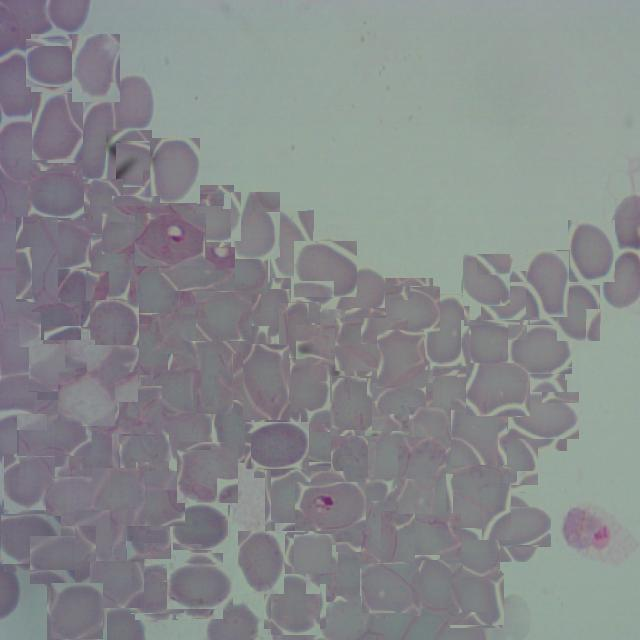leukocyte: (435, 464, 511, 540), (336, 478, 395, 552), (447, 403, 511, 468), (162, 302, 225, 366), (339, 314, 404, 376), (176, 442, 238, 504), (398, 436, 447, 514), (335, 265, 386, 339), (90, 540, 145, 608), (16, 216, 59, 302), (166, 239, 227, 299), (296, 239, 356, 299), (396, 506, 456, 566), (243, 344, 290, 420), (290, 414, 350, 473), (32, 337, 92, 396), (466, 363, 530, 418), (130, 259, 181, 328), (514, 386, 572, 446), (361, 500, 416, 562), (75, 101, 116, 184), (86, 233, 136, 301), (231, 191, 281, 259), (32, 94, 83, 160), (0, 510, 58, 568), (35, 531, 93, 589), (26, 406, 84, 464), (107, 201, 165, 259), (100, 136, 158, 193), (150, 138, 200, 204), (72, 34, 120, 102), (181, 189, 238, 246), (425, 294, 470, 366), (512, 321, 568, 378), (208, 243, 264, 300), (128, 469, 184, 526), (368, 425, 418, 488), (480, 432, 536, 488), (281, 358, 330, 422), (418, 366, 474, 422), (172, 558, 228, 614), (102, 382, 158, 438), (59, 372, 115, 428), (49, 585, 106, 640), (330, 375, 381, 436), (448, 572, 504, 627), (381, 282, 436, 338), (304, 317, 359, 373), (158, 405, 213, 461), (250, 418, 306, 473), (91, 469, 146, 525), (409, 559, 463, 616), (32, 167, 87, 222), (444, 522, 499, 577), (375, 379, 430, 434), (268, 576, 322, 632), (86, 346, 140, 402), (270, 210, 314, 278), (490, 500, 544, 555), (230, 326, 270, 400), (526, 250, 570, 317), (28, 36, 82, 90), (462, 317, 516, 371), (23, 297, 77, 351), (3, 455, 57, 509), (265, 469, 312, 531), (568, 220, 615, 282), (362, 563, 420, 613), (238, 531, 284, 594), (196, 336, 233, 414), (374, 332, 427, 386), (409, 407, 453, 472), (51, 268, 97, 330), (212, 399, 256, 463), (198, 290, 251, 343), (69, 421, 120, 476), (175, 500, 228, 552), (78, 179, 123, 240), (90, 300, 139, 356), (286, 533, 338, 585), (75, 509, 126, 562), (249, 276, 292, 338), (326, 545, 372, 602), (279, 302, 321, 364), (331, 434, 374, 494), (556, 284, 600, 341), (40, 221, 90, 271), (462, 255, 512, 305), (50, 472, 100, 522), (486, 277, 536, 326), (122, 426, 169, 478), (132, 569, 180, 617), (125, 510, 171, 559), (154, 368, 200, 414), (134, 324, 174, 376), (112, 76, 152, 124)
red blood cell: (140, 208, 202, 270), (300, 476, 360, 536)
